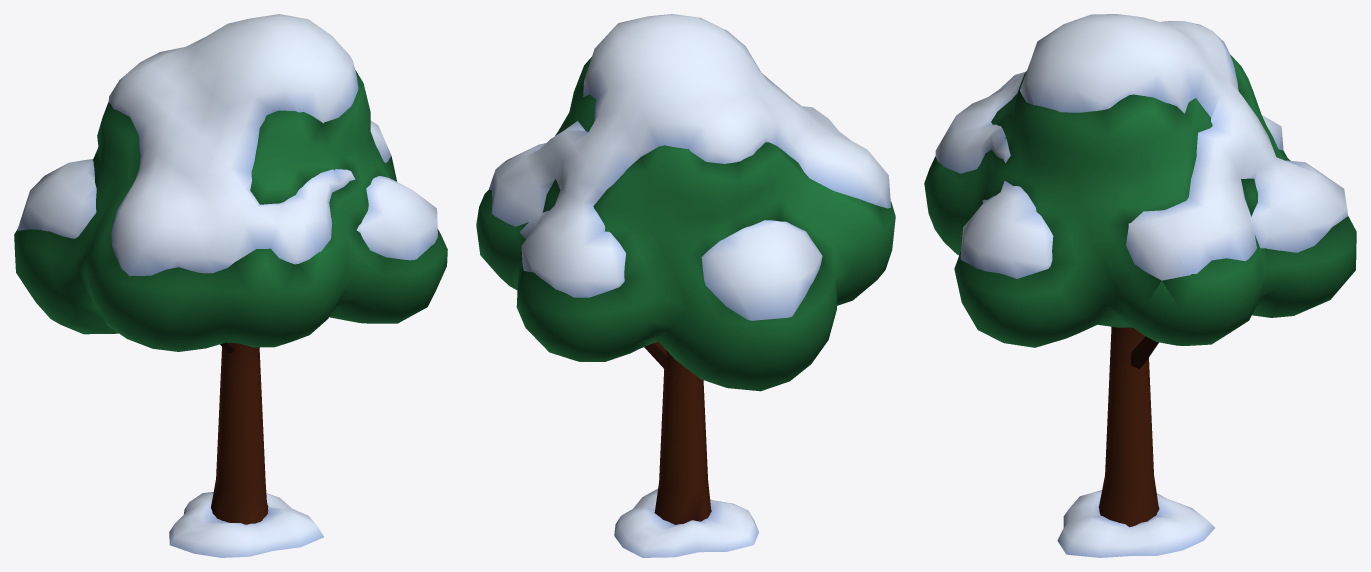
File: Tree_SnowyRound.fbx
3 views of the same model, side by side, from view 1: azimuth 30°, elevation 25°; view 2: azimuth 150°, elevation 25°; view 3: azimuth 270°, elevation 25° (orthographic). The views are drawn at different scales.
Visible parts, largest first — view 1: Canopy, Tree_SnowyRound; view 2: Canopy, Tree_SnowyRound; view 3: Canopy, Tree_SnowyRound.
Boxes of the visible parts, x1,y1,x2,y2 form: Canopy: (14, 14, 447, 351); Tree_SnowyRound: (169, 342, 323, 557); Canopy: (476, 14, 895, 391); Tree_SnowyRound: (614, 341, 758, 557); Canopy: (924, 14, 1356, 347); Tree_SnowyRound: (1057, 326, 1214, 557).
Size of the model in its own units: 2.75 by 3.78 by 2.85.
